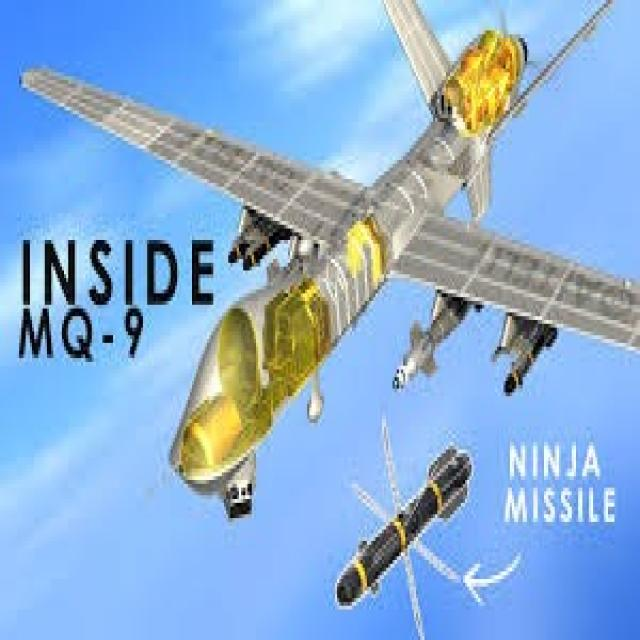MQ9: (3, 0, 640, 513)
